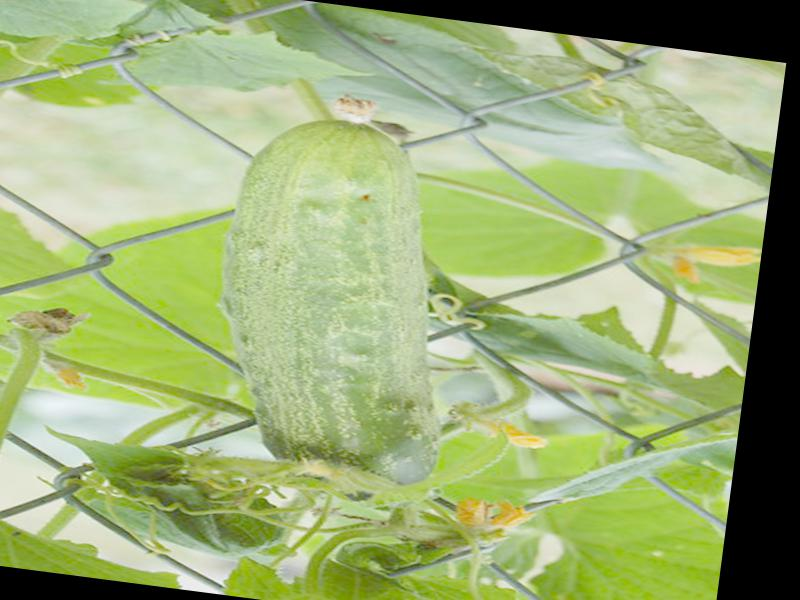Cucumber: (202, 86, 475, 506)
